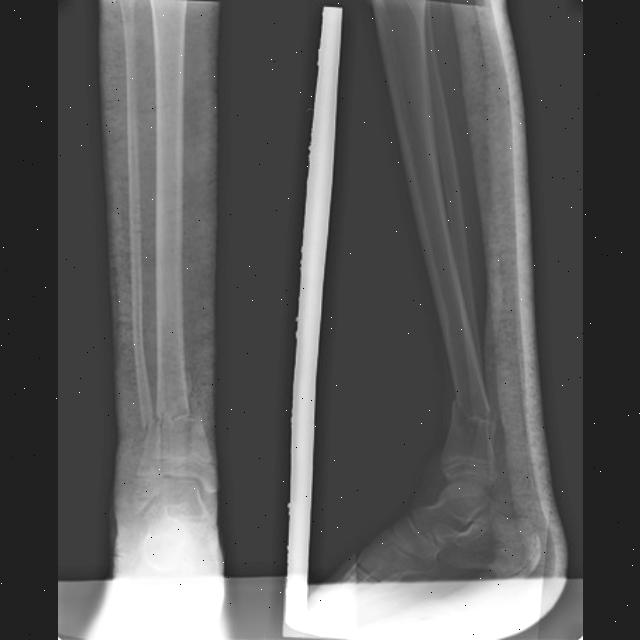Fracture: (452, 389, 500, 435), (138, 408, 202, 435)
